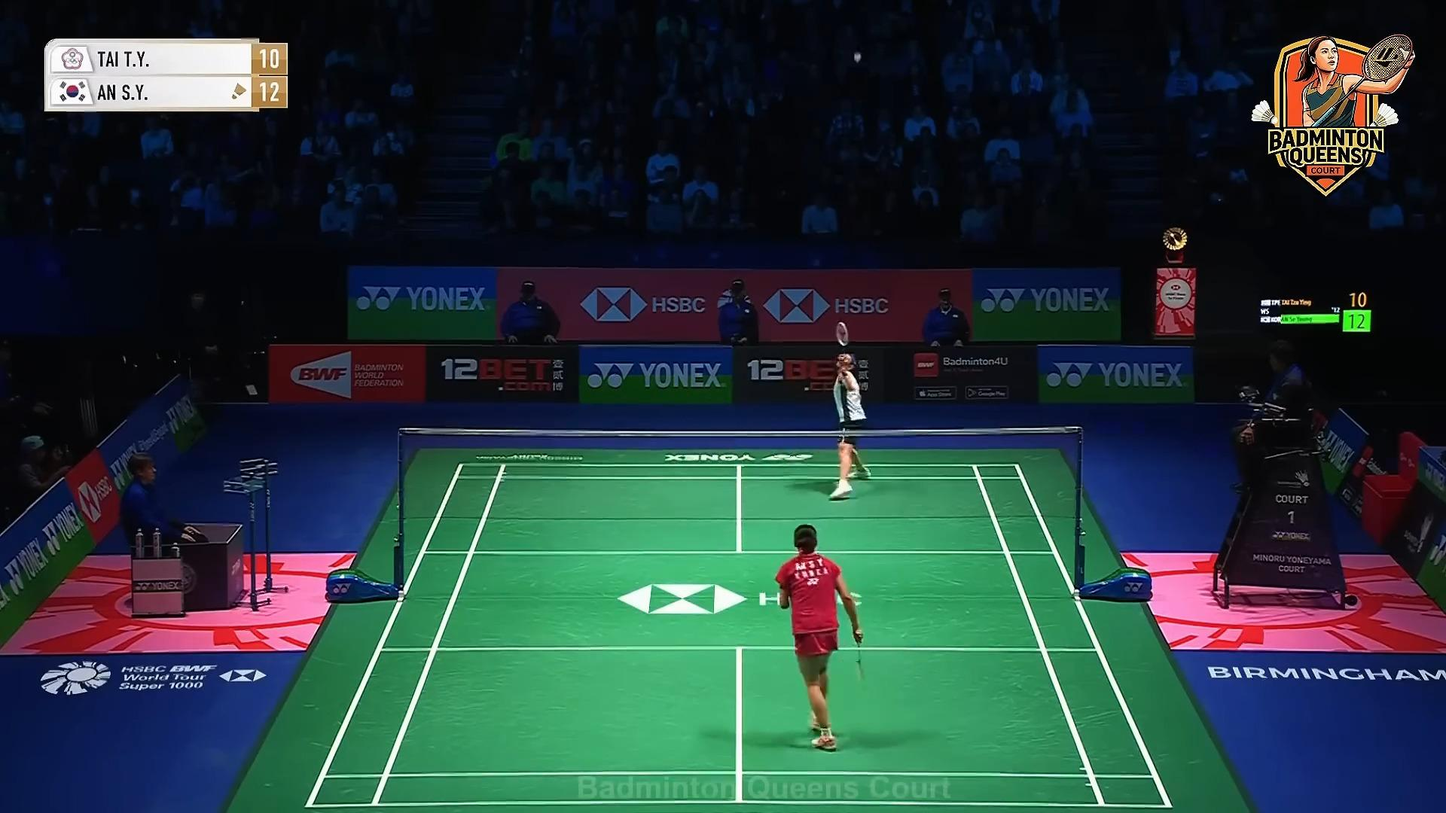player: (773, 524, 863, 751), (829, 346, 871, 501)
